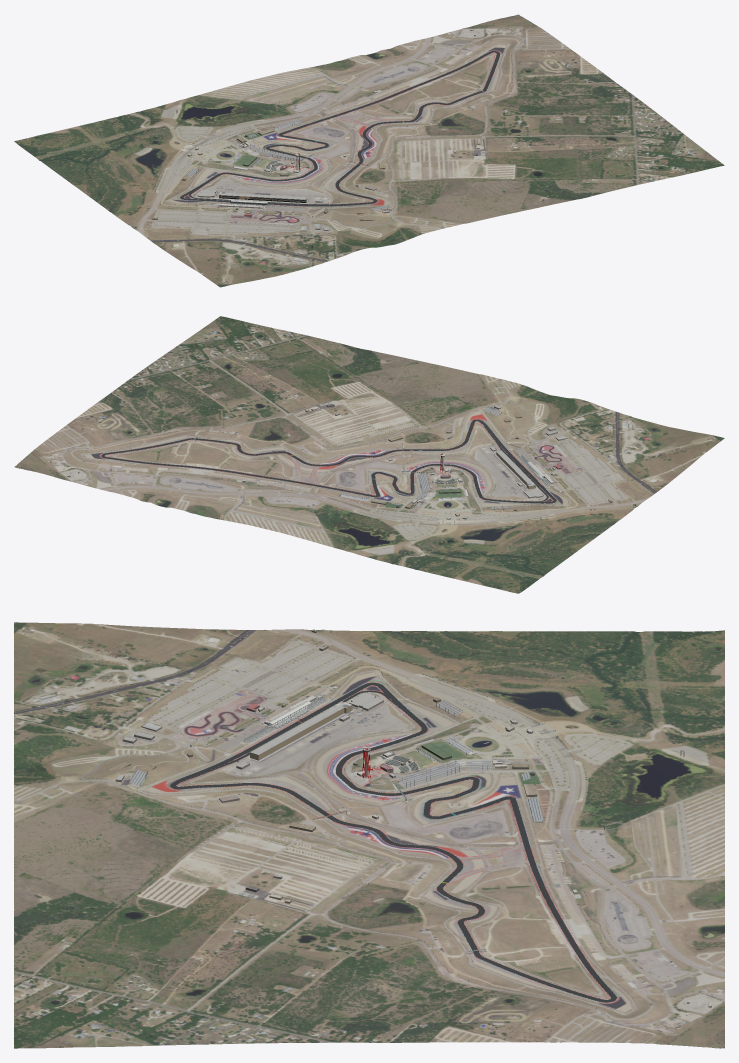
File: austin.glb
The picture shows the model from 3 angles, top to bottom: view 1: azimuth 30°, elevation 25°; view 2: azimuth 150°, elevation 25°; view 3: azimuth 270°, elevation 25°; orthographic projection. The views are drawn at different scales.
Parts seen in each view (by area): view 1: Austin_USGS_Terrain, Austin_Raceway, Austin_NAIP_Building_Roofs, Austin_Current_Buildings, Austin_Mapped_Grandstands; view 2: Austin_USGS_Terrain, Austin_Raceway, Austin_NAIP_Building_Roofs, Austin_Current_Buildings, Austin_Mapped_Grandstands; view 3: Austin_USGS_Terrain, Austin_Raceway, Austin_NAIP_Building_Roofs, Austin_Mapped_Grandstands, Austin_Current_Buildings.
Part boxes in pixels (left/top/right/bottom): Austin_USGS_Terrain: left=14, top=14, right=724, bottom=287; Austin_Raceway: left=180, top=51, right=500, bottom=206; Austin_NAIP_Building_Roofs: left=135, top=29, right=480, bottom=230; Austin_Current_Buildings: left=135, top=29, right=480, bottom=231; Austin_Mapped_Grandstands: left=186, top=119, right=389, bottom=209; Austin_USGS_Terrain: left=14, top=316, right=724, bottom=593; Austin_Raceway: left=101, top=419, right=556, bottom=503; Austin_NAIP_Building_Roofs: left=67, top=404, right=635, bottom=518; Austin_Current_Buildings: left=67, top=405, right=636, bottom=519; Austin_Mapped_Grandstands: left=339, top=406, right=550, bottom=510; Austin_USGS_Terrain: left=14, top=622, right=724, bottom=1048; Austin_Raceway: left=170, top=682, right=616, bottom=1002; Austin_NAIP_Building_Roofs: left=107, top=629, right=711, bottom=1005; Austin_Mapped_Grandstands: left=129, top=696, right=542, bottom=821; Austin_Current_Buildings: left=107, top=630, right=711, bottom=1007.
Bounding box in the file's own units: 2400 × 94.85 × 1700.
Materials: 13 (1 with a texture image).
